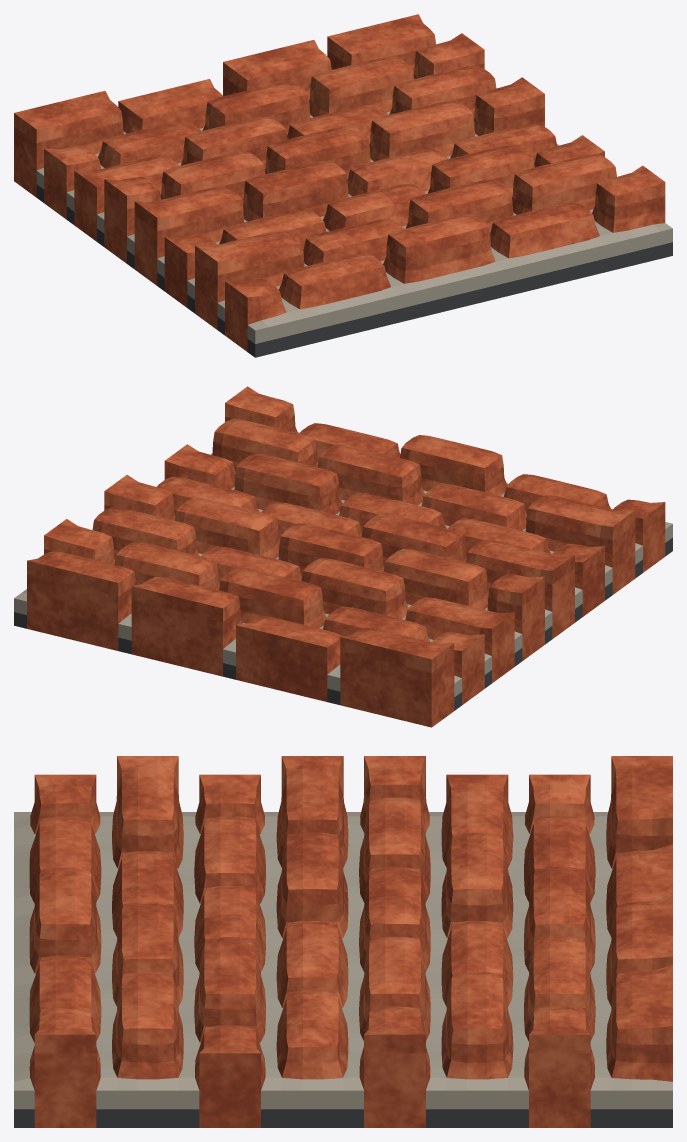
Rendered from floor_uneven_brick.glb.
3 views of the same model, one above another, from view 1: azimuth 30°, elevation 25°; view 2: azimuth 150°, elevation 25°; view 3: azimuth 270°, elevation 25° (orthographic). The views are drawn at different scales.
Visible parts, largest first — view 1: town_floor_uneven_brick; view 2: town_floor_uneven_brick; view 3: town_floor_uneven_brick.
Part boxes in pixels (x1,y1,x2,y2): town_floor_uneven_brick: (14, 14, 672, 357); town_floor_uneven_brick: (14, 386, 672, 727); town_floor_uneven_brick: (14, 756, 672, 1127).
Size of the model in its own units: 1 by 0.1562 by 1.
Materials: 3 (1 with a texture image).
